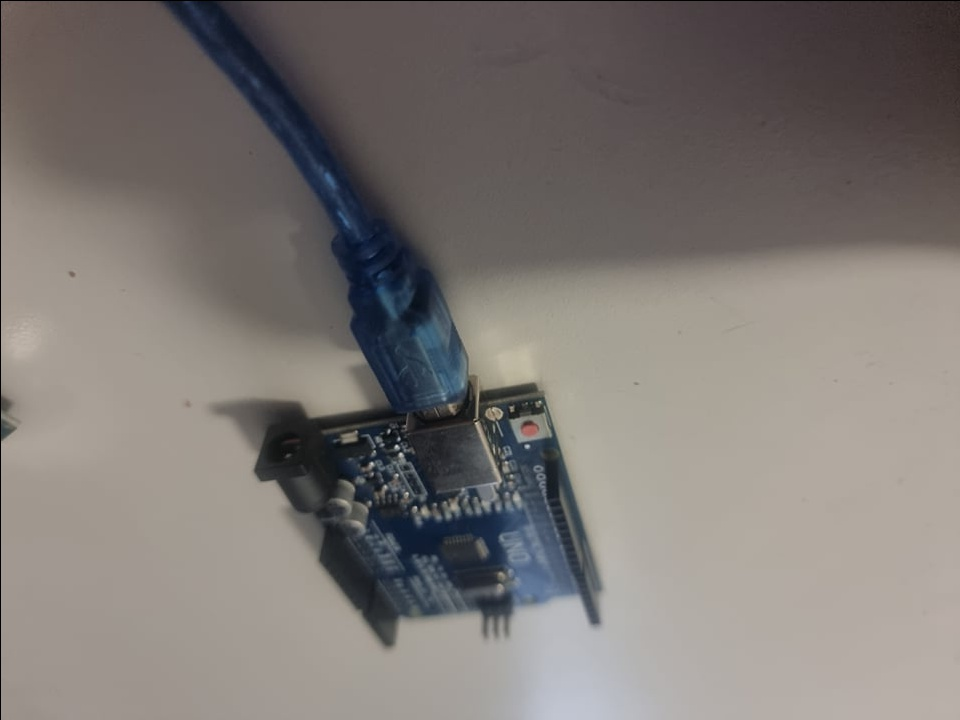UNO R3: (245, 391, 612, 653)
